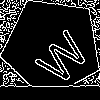W: (27, 22, 92, 88)
